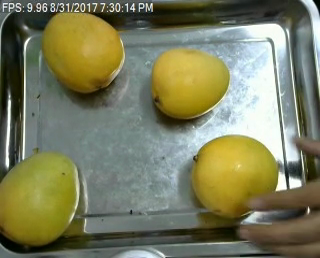Mango: (0, 152, 81, 250), (189, 132, 279, 220), (44, 7, 128, 95), (145, 46, 233, 123)
